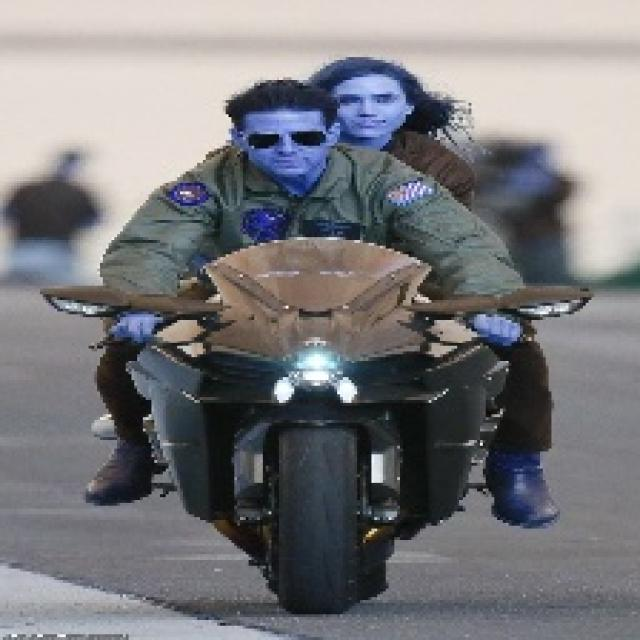motorcycle: (109, 259, 536, 614)
